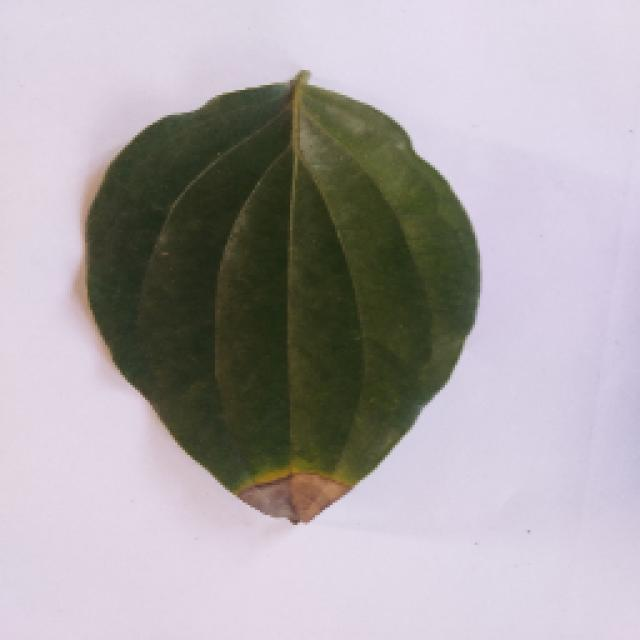footrot: (68, 70, 490, 520)
